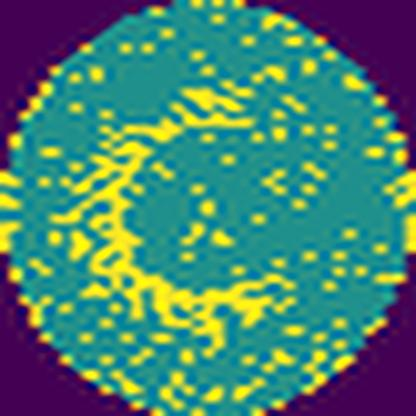Donut: (48, 86, 345, 358)
